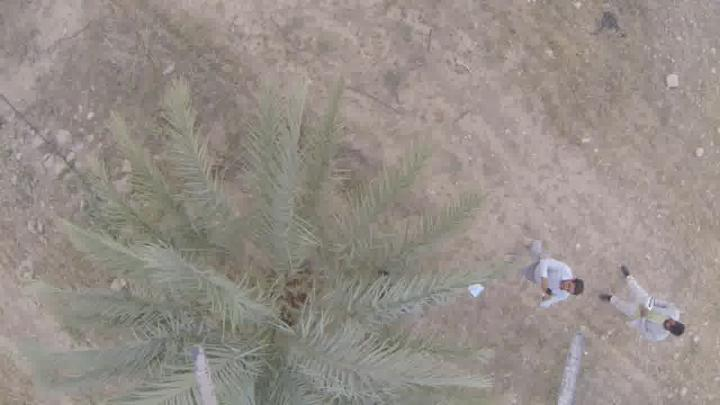Date-Palm-Crown: (141, 169, 413, 404)
